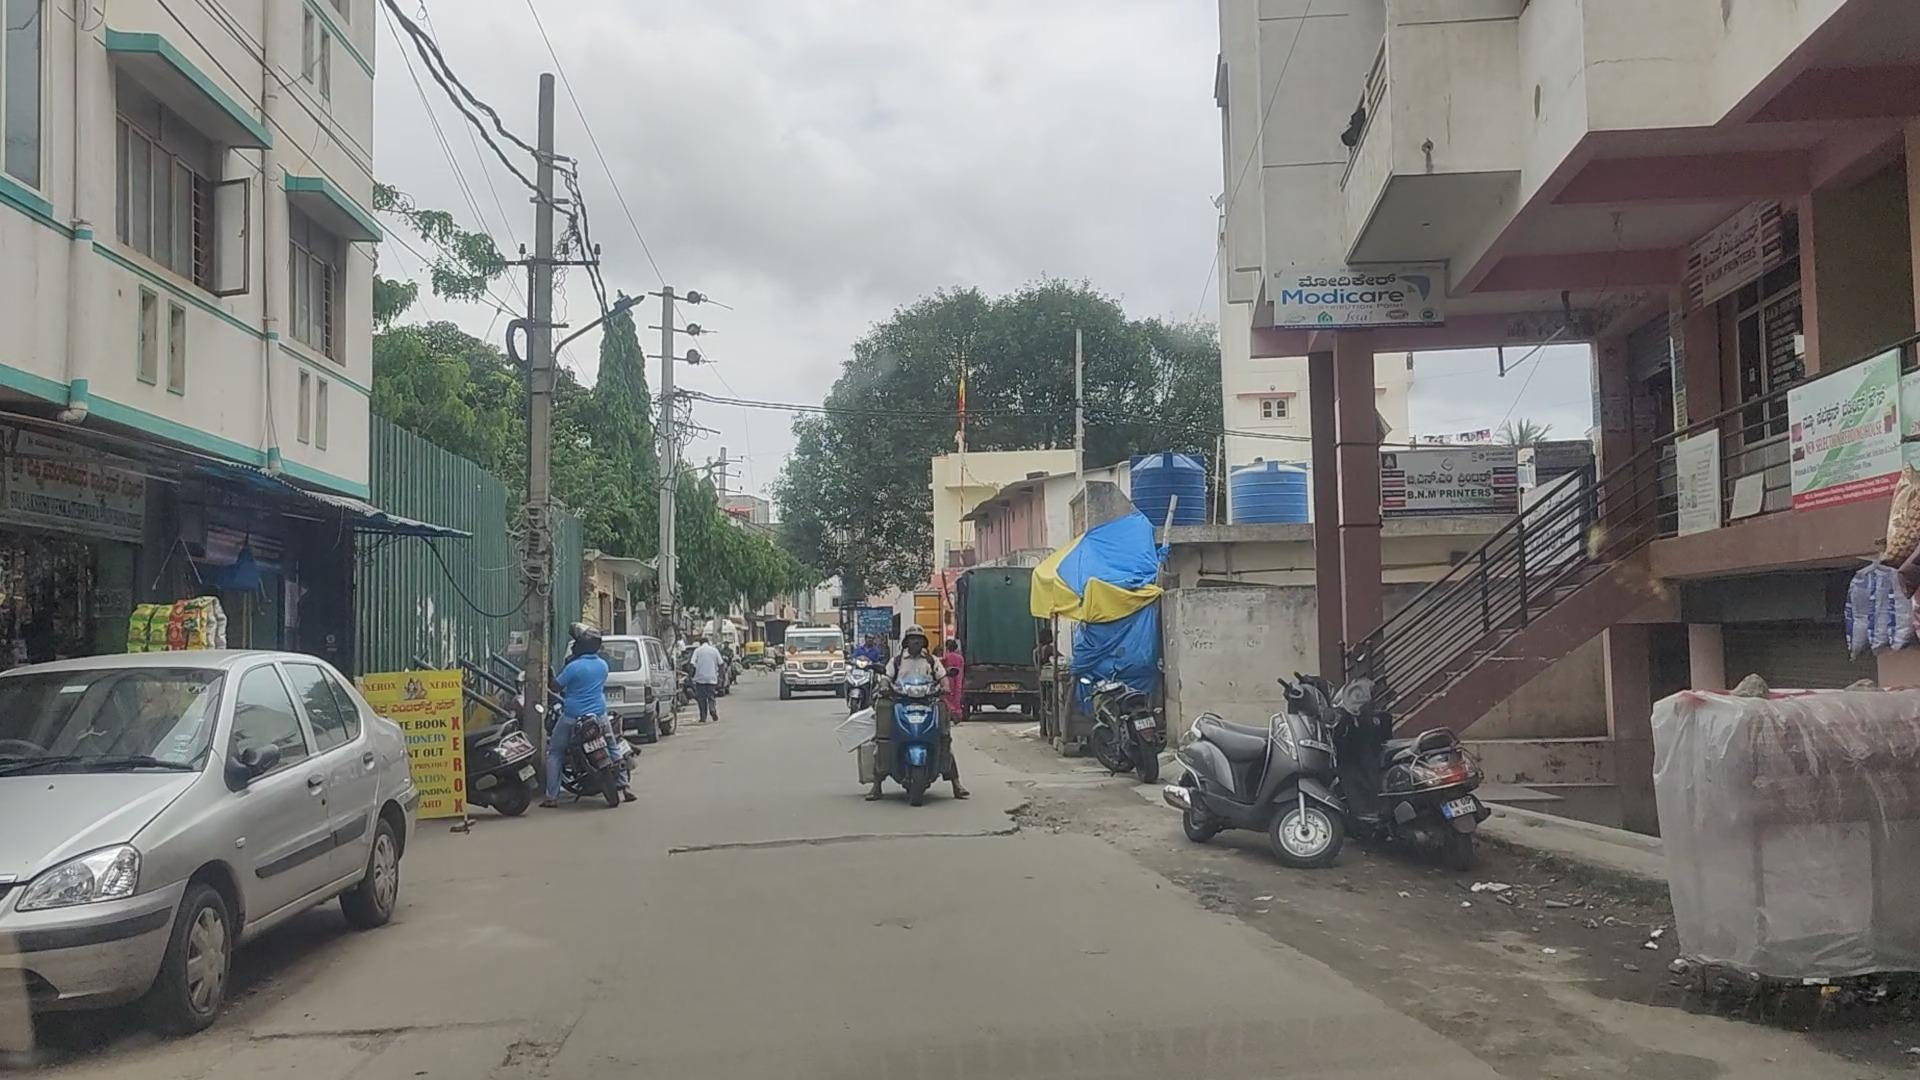LMV: (547, 626, 634, 810), (889, 627, 955, 797)
RoadDamages: (238, 990, 577, 1080), (660, 799, 1047, 868), (1311, 993, 1562, 1070), (1155, 860, 1236, 913)
